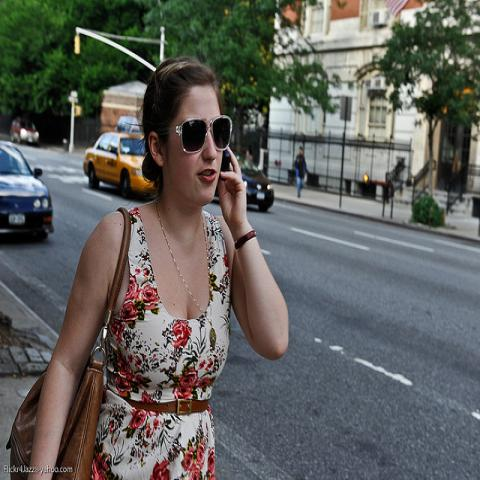car: (1, 134, 54, 232), (84, 132, 159, 198), (231, 148, 274, 212), (11, 118, 39, 143)
